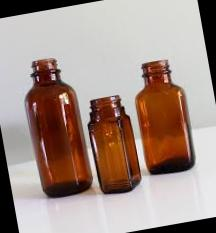glass: (5, 44, 98, 210), (118, 50, 208, 185), (72, 82, 148, 204)
